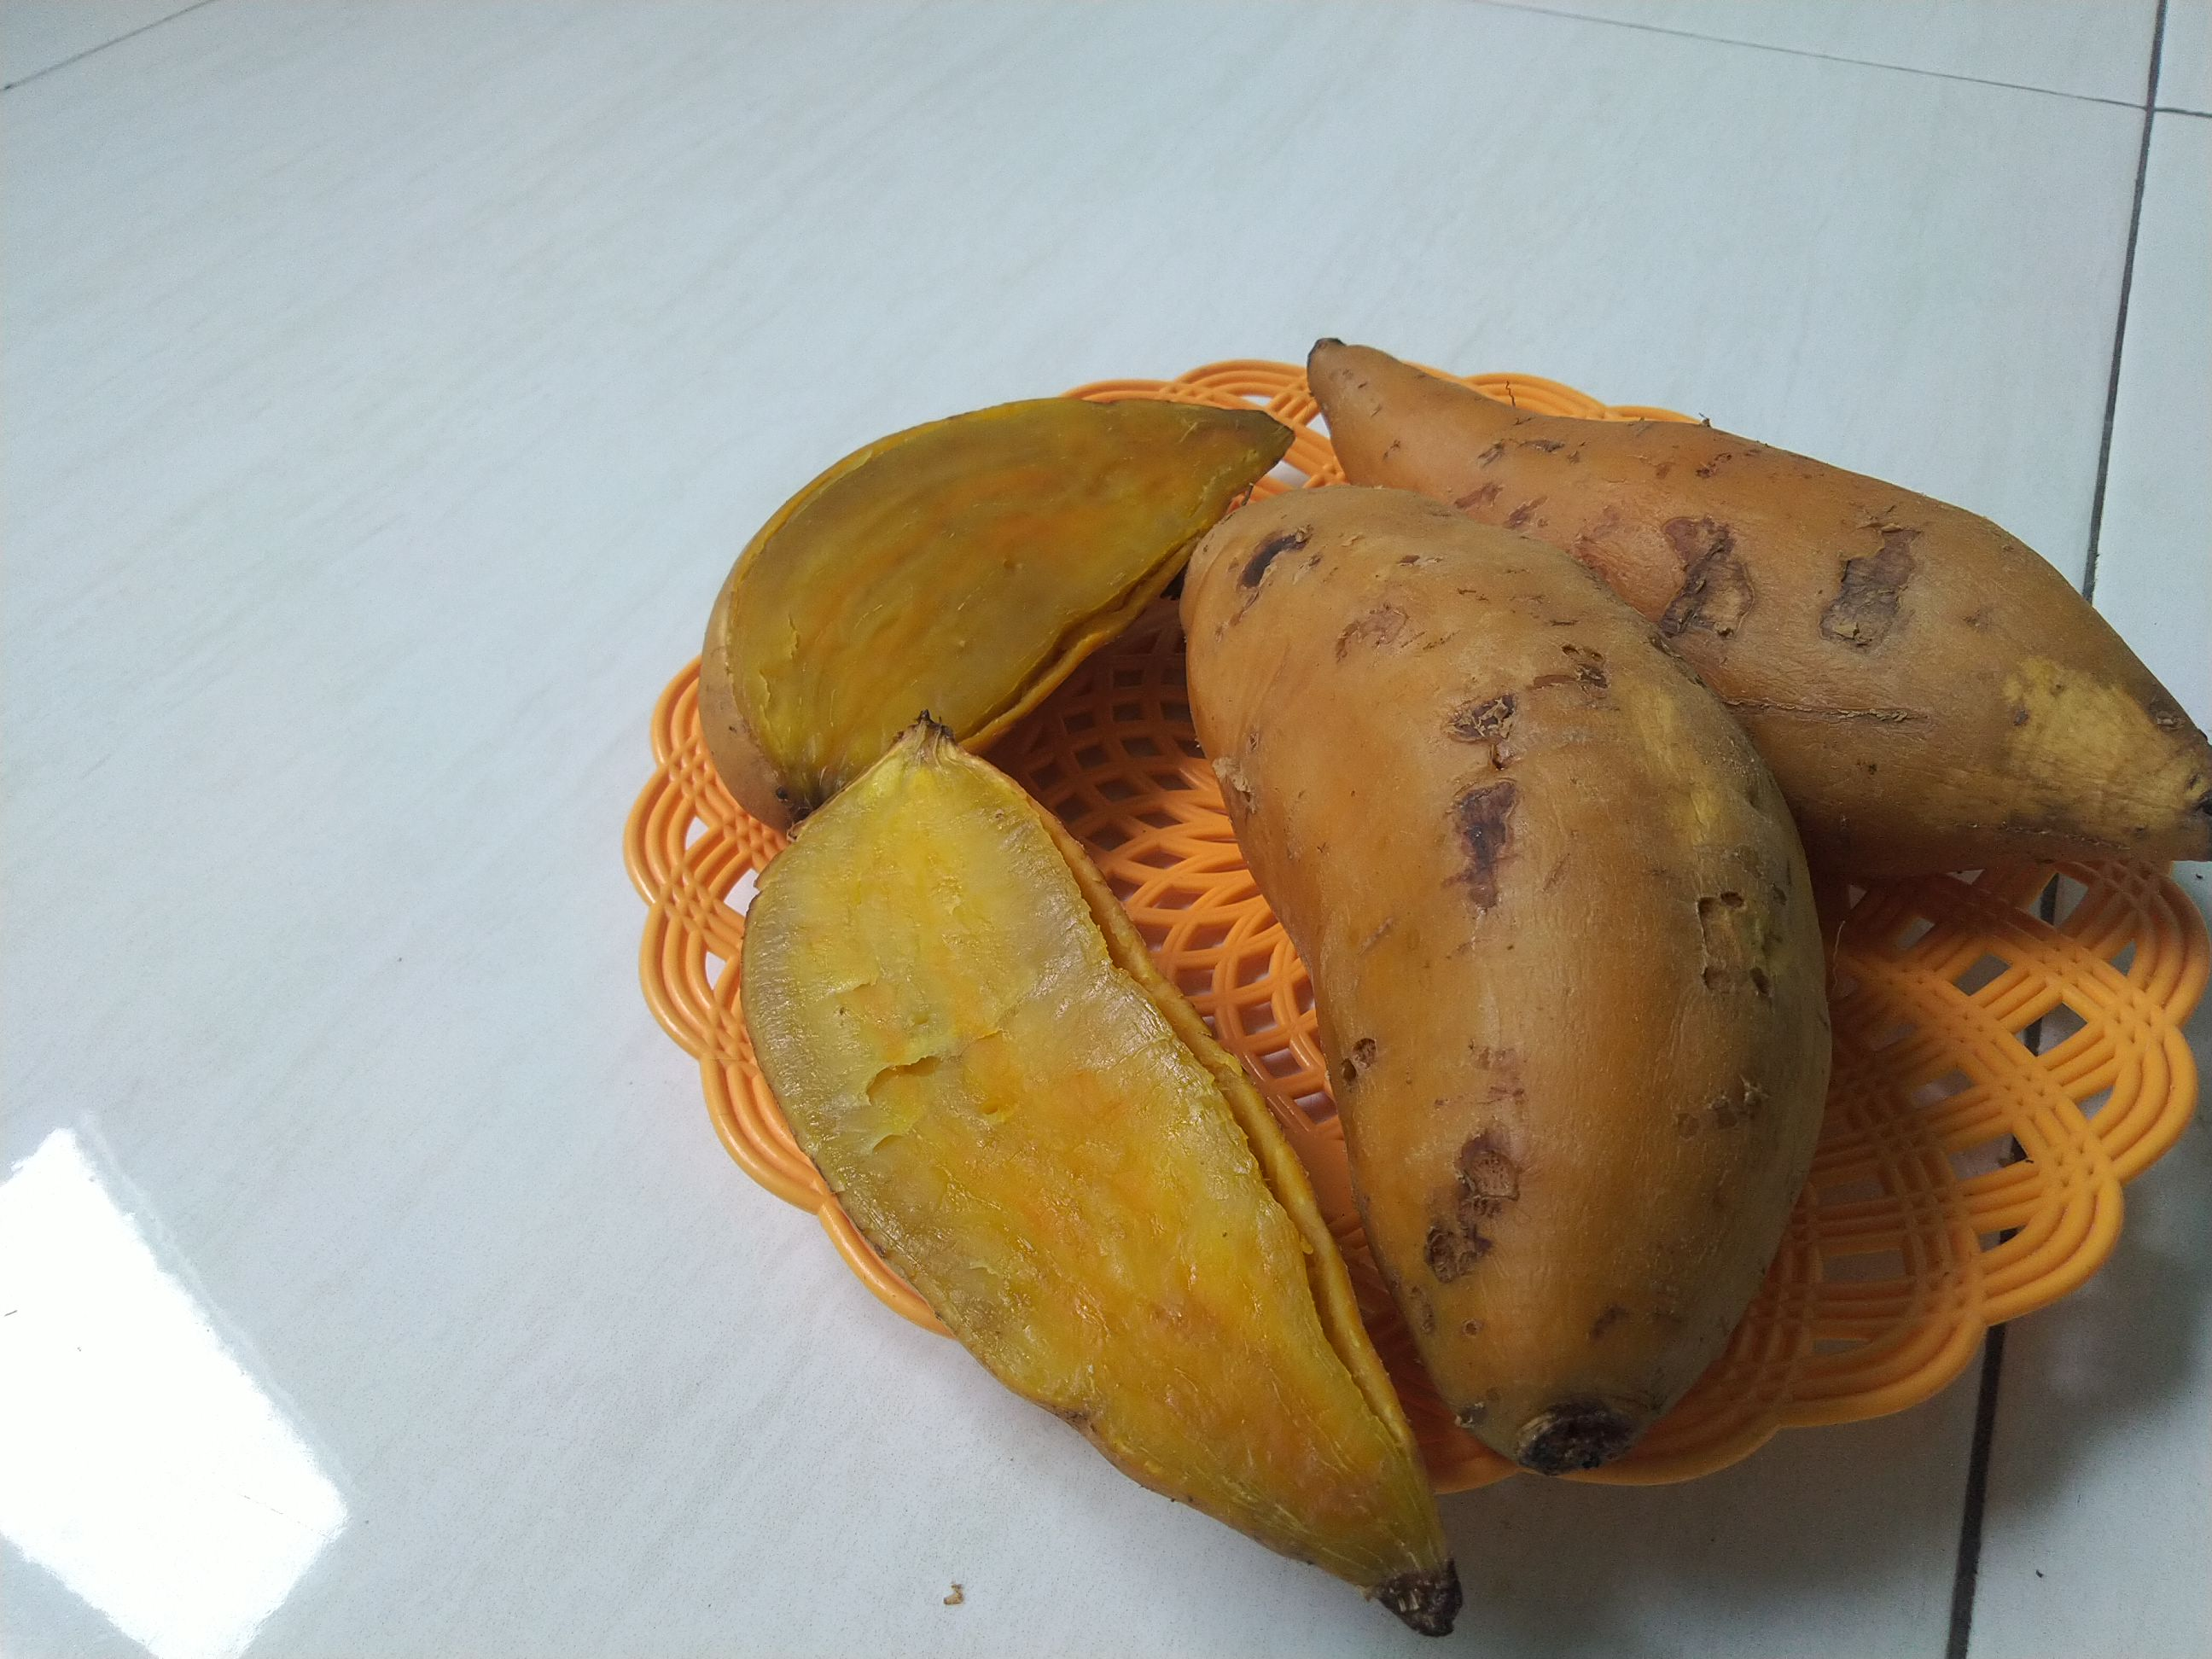ubi cilembu: (719, 720, 1517, 1642), (1170, 491, 1844, 1507), (1289, 312, 2212, 885), (688, 392, 1312, 828)
